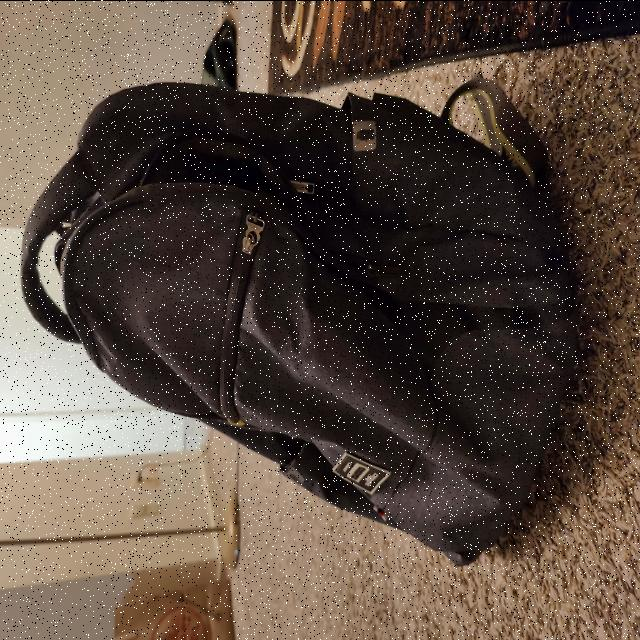bag: (22, 91, 562, 550)
